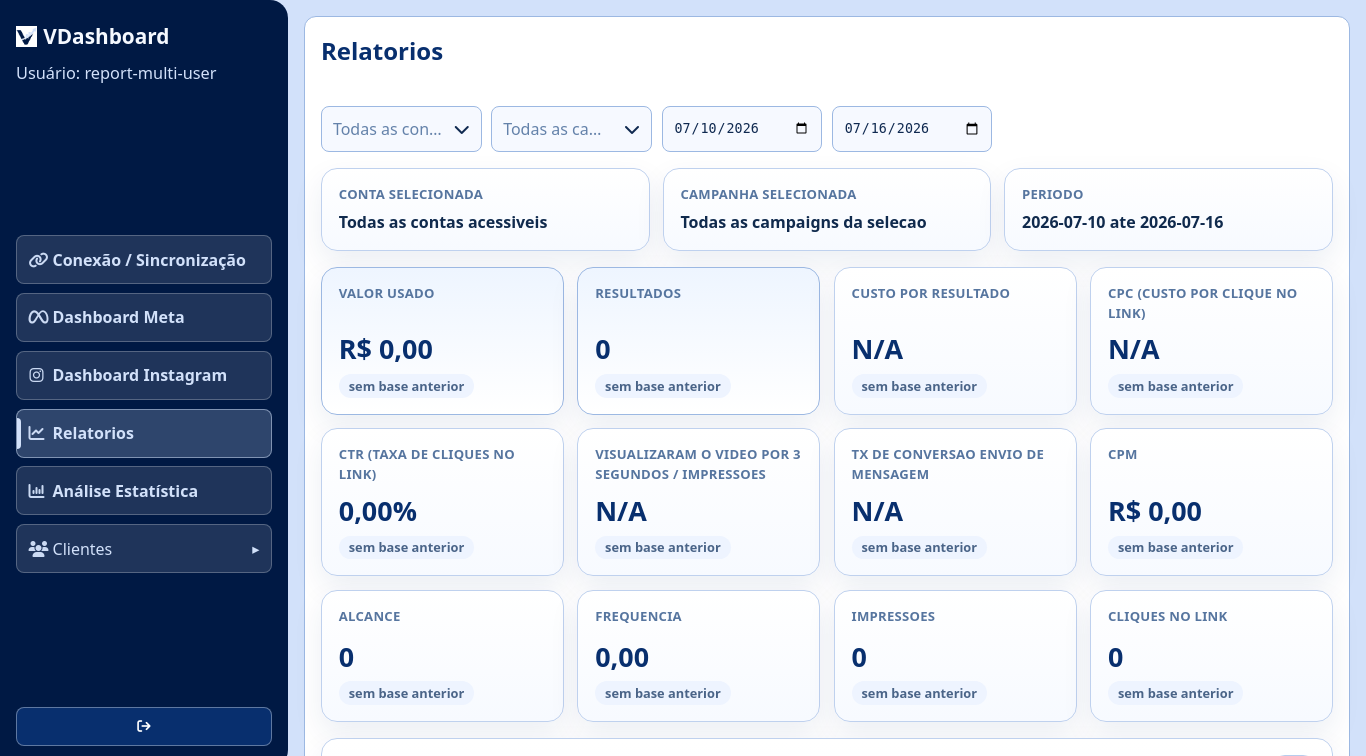
App frontend flows › allows selecting multiple accounts in relatorios filters
Check: the heading "Relatorios" is shown, box [321, 33, 443, 69]
Click the button with aria-label "Filtro de conta de anuncio".
click(401, 129)  # box [321, 106, 482, 152]
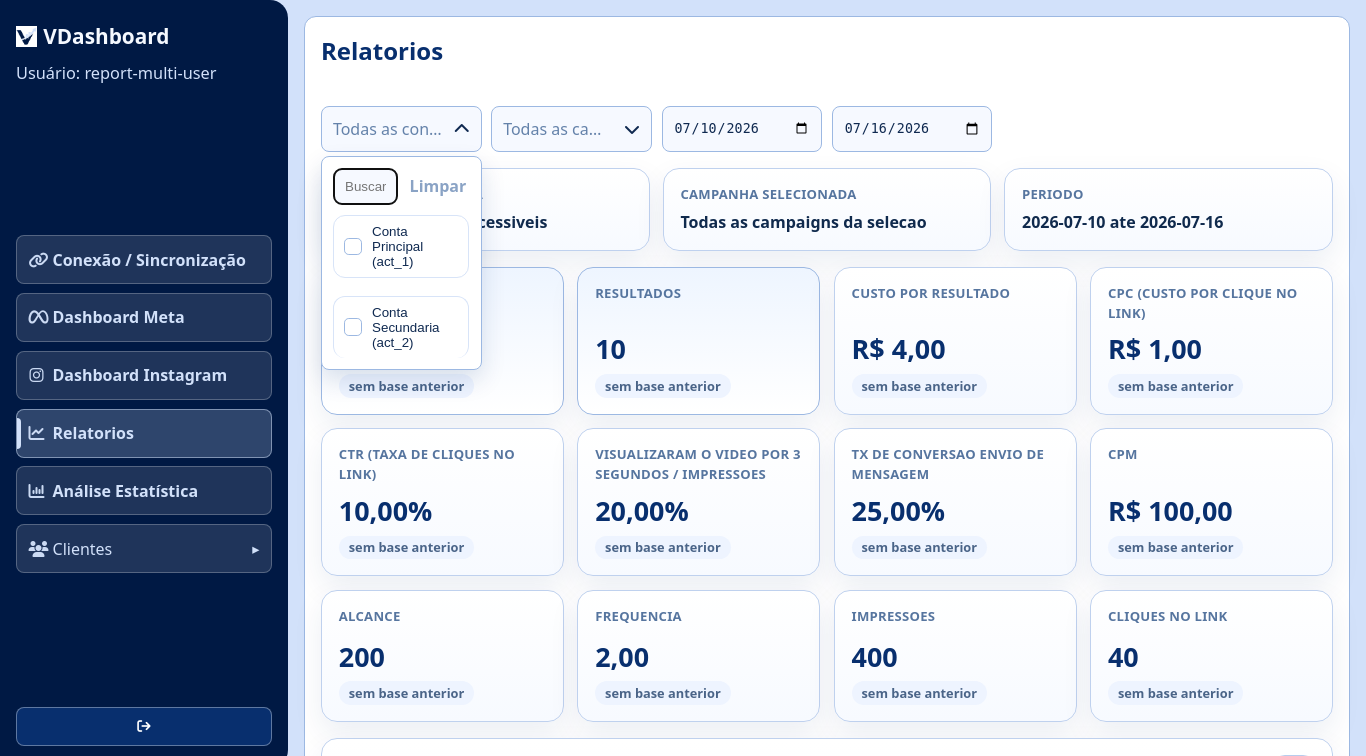
Click the button "Conta Principal (act_1)".
click(401, 246)  # box [333, 215, 470, 278]
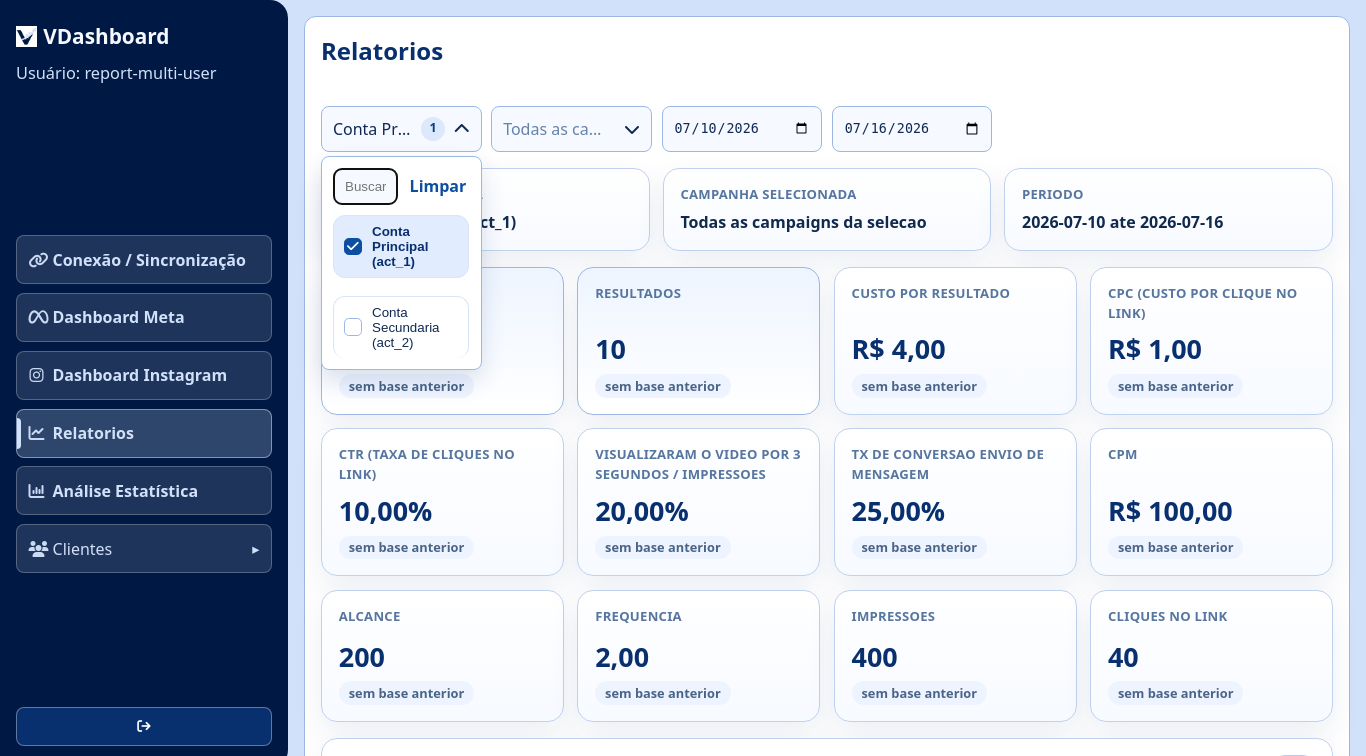
Click the button "Conta Secundaria (act_2)".
click(401, 327)  # box [333, 296, 470, 358]
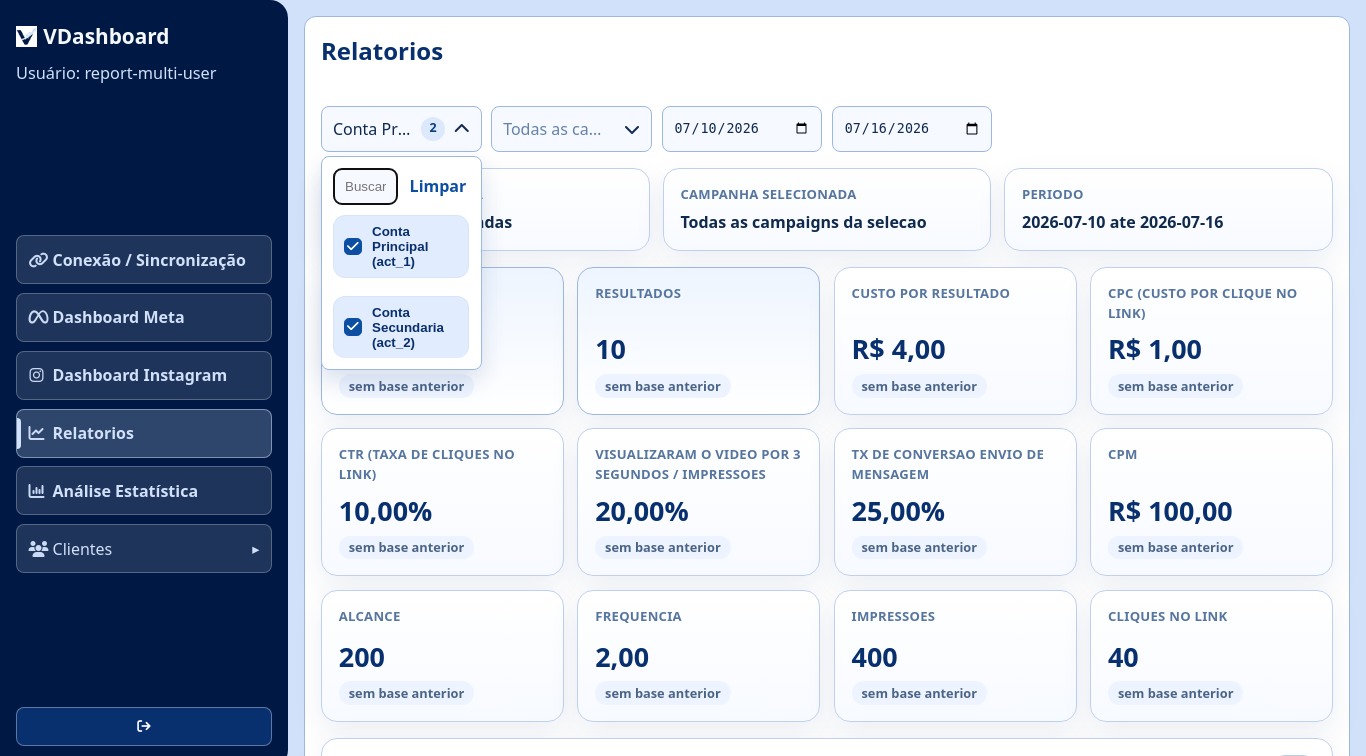
Check: the button with aria-label "Filtro de conta de anuncio" shows "2", box [321, 106, 482, 152]
Check: the text "2 contas selecionadas" is shown, box [339, 212, 512, 234]
